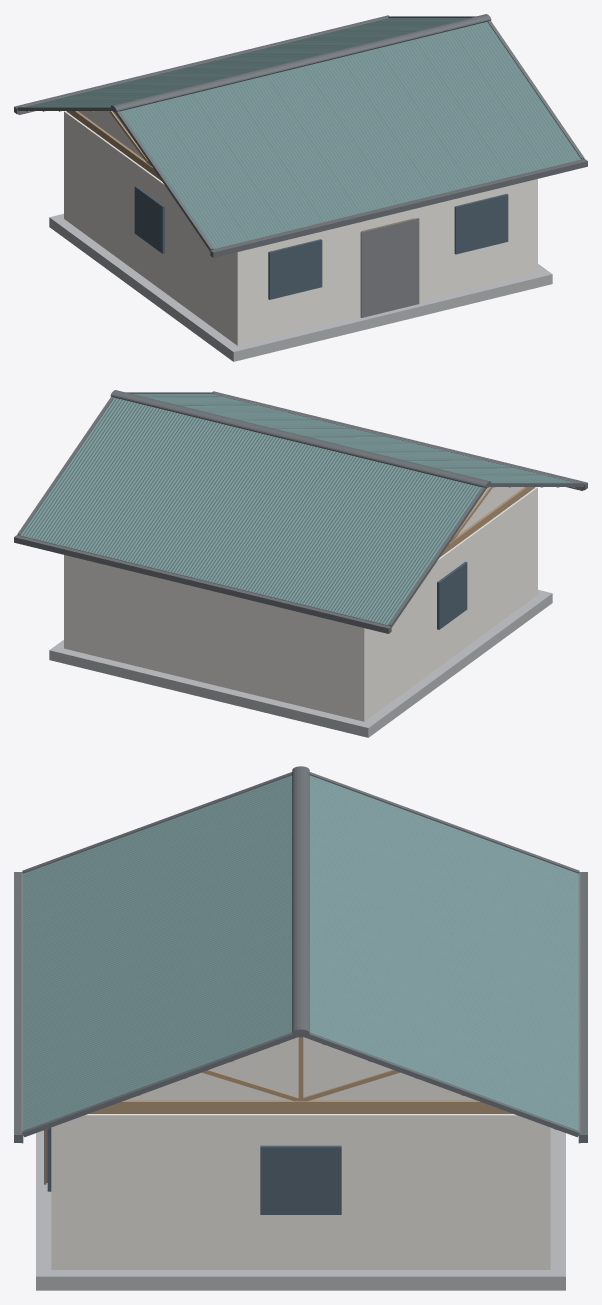
Rendered from Agua_Corr_1220_Single_Storey_8x8.glb.
The picture shows the model from 3 angles, top to bottom: view 1: azimuth 30°, elevation 25°; view 2: azimuth 150°, elevation 25°; view 3: azimuth 270°, elevation 25°; orthographic projection. The views are drawn at different scales.
Visible parts, largest first — view 1: GroundFloor_Walls, Foundation, RoofSheet_03, RoofSheet_06, RoofSheet_09, RoofSheet_04, RoofSheet_07, RoofSheet_08, RoofSheet_02, RoofSheet_05, RoofSheet_10, RoofSheet_01 (+23 smaller); view 2: GroundFloor_Walls, Foundation, RoofSheet_13, RoofSheet_16, RoofSheet_19, RoofSheet_14, RoofSheet_17, RoofSheet_18, RoofSheet_12, RoofSheet_15, RoofSheet_20, RoofSheet_11 (+20 smaller); view 3: GroundFloor_Walls, Foundation, Gable_Wall_Right, RoofSheet_02, RoofSheet_07, RoofSheet_12, RoofSheet_17, RoofSheet_03, RoofSheet_04, RoofSheet_06, RoofSheet_08, RoofSheet_09 (+23 smaller).
Boxes of the visible parts, x1,y1,x2,y2 form: GroundFloor_Walls: [64, 111, 537, 345]; Foundation: [49, 214, 552, 361]; RoofSheet_03: [192, 85, 322, 231]; RoofSheet_06: [303, 57, 433, 203]; RoofSheet_09: [415, 30, 544, 176]; RoofSheet_04: [229, 76, 359, 221]; RoofSheet_07: [340, 48, 470, 194]; RoofSheet_08: [377, 39, 507, 185]; RoofSheet_02: [155, 94, 285, 240]; RoofSheet_05: [266, 67, 396, 212]; RoofSheet_10: [451, 21, 580, 167]; RoofSheet_01: [120, 103, 248, 248]; GroundFloor_Walls: [64, 487, 537, 721]; Foundation: [49, 590, 552, 737]; RoofSheet_13: [279, 461, 409, 607]; RoofSheet_16: [168, 433, 298, 579]; RoofSheet_19: [57, 406, 186, 552]; RoofSheet_14: [242, 452, 372, 597]; RoofSheet_17: [131, 424, 261, 570]; RoofSheet_18: [94, 415, 224, 561]; RoofSheet_12: [316, 470, 446, 616]; RoofSheet_15: [205, 443, 335, 588]; RoofSheet_20: [21, 397, 150, 543]; RoofSheet_11: [353, 479, 481, 624]; GroundFloor_Walls: [51, 1114, 550, 1269]; Foundation: [36, 1128, 565, 1290]; Gable_Wall_Right: [126, 1037, 475, 1100]; RoofSheet_02: [23, 801, 292, 925]; RoofSheet_07: [23, 931, 292, 1055]; RoofSheet_12: [309, 801, 578, 925]; RoofSheet_17: [309, 931, 578, 1055]; RoofSheet_03: [23, 827, 292, 951]; RoofSheet_04: [23, 853, 292, 977]; RoofSheet_06: [23, 905, 292, 1029]; RoofSheet_08: [23, 957, 292, 1081]; RoofSheet_09: [23, 984, 292, 1107].
Bounding box in the file's own units: 9.98 × 4.97 × 9.2.
